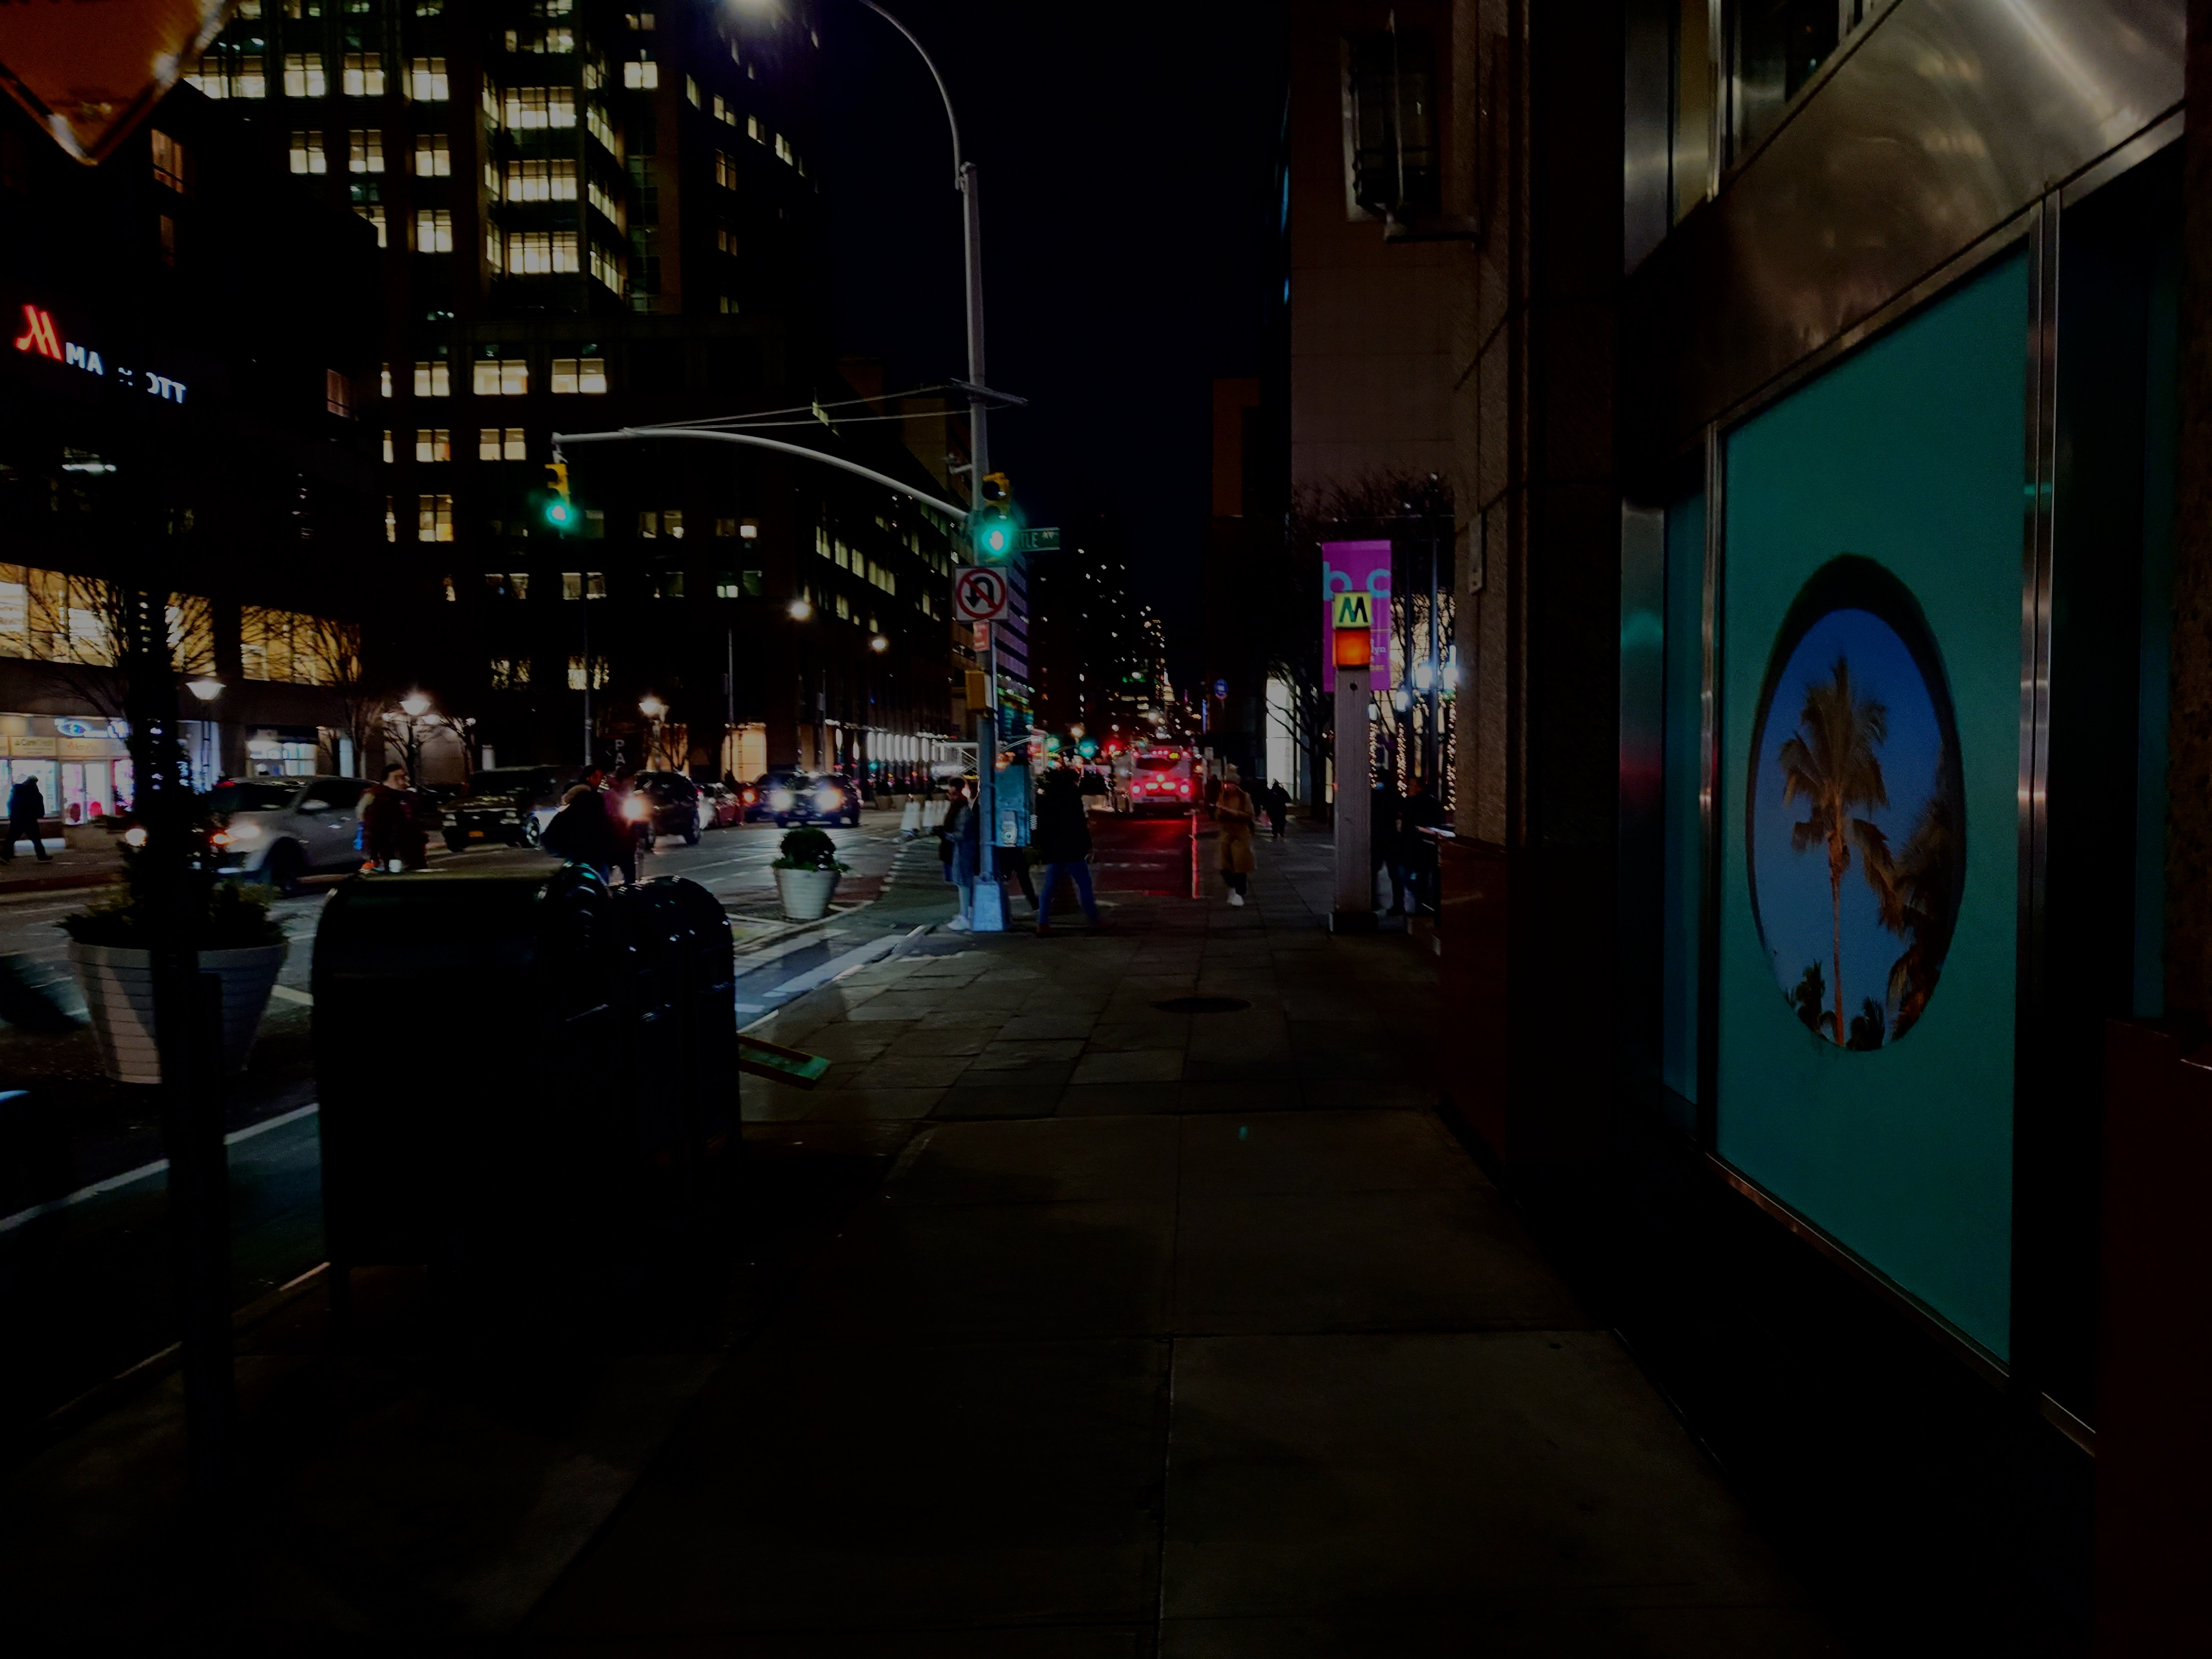car: (191, 775, 359, 895), (442, 769, 548, 849), (1112, 745, 1193, 814), (636, 770, 701, 851), (775, 771, 860, 827), (743, 771, 787, 827), (699, 782, 737, 830)
person: (1036, 769, 1107, 936), (544, 767, 610, 867), (362, 764, 426, 865), (936, 776, 974, 935), (1215, 763, 1254, 909), (1370, 767, 1401, 921), (8, 775, 56, 863), (607, 767, 637, 887), (1401, 776, 1443, 827), (1267, 780, 1291, 840), (1206, 775, 1221, 812)
